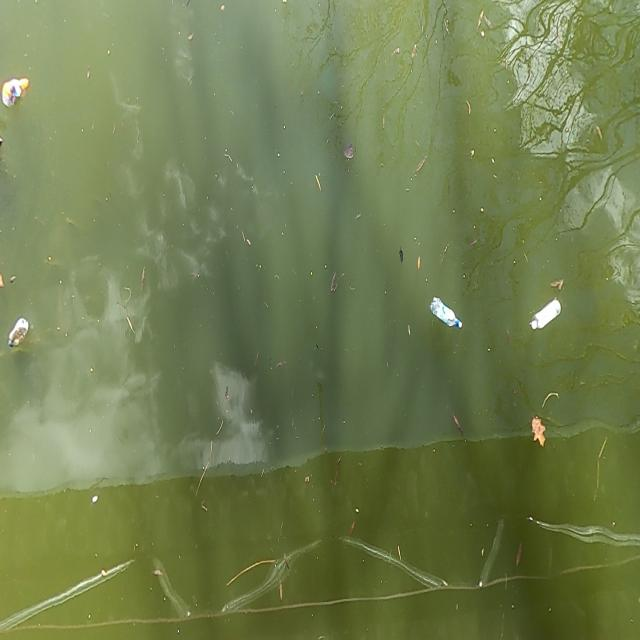Bouteille plastique: (522, 288, 566, 334), (427, 290, 466, 339), (0, 75, 33, 115), (13, 318, 34, 356)
